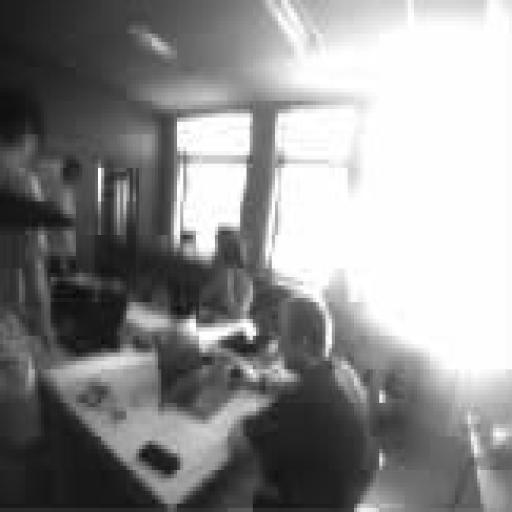human: (231, 294, 379, 511), (0, 227, 53, 507), (200, 227, 252, 318), (51, 156, 82, 218)
